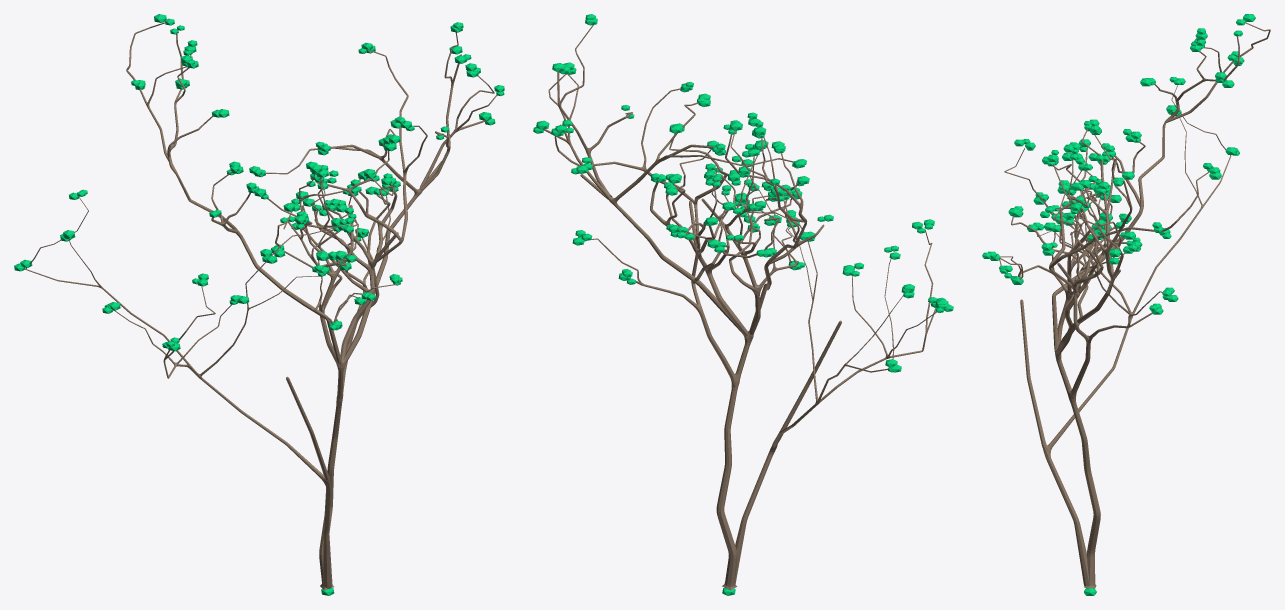
The picture shows the model from 3 angles, left to right: view 1: azimuth 30°, elevation 25°; view 2: azimuth 150°, elevation 25°; view 3: azimuth 270°, elevation 25°; orthographic projection. The views are drawn at different scales.
Parts seen in each view (by area): view 1: Arbusto; view 2: Arbusto; view 3: Arbusto.
Boxes of the visible parts, bbox=[...] form: Arbusto: bbox=[25, 22, 496, 590]; Arbusto: bbox=[543, 25, 936, 590]; Arbusto: bbox=[999, 22, 1270, 588].
Size of the model in its own units: 2.6 by 3.21 by 1.56.
